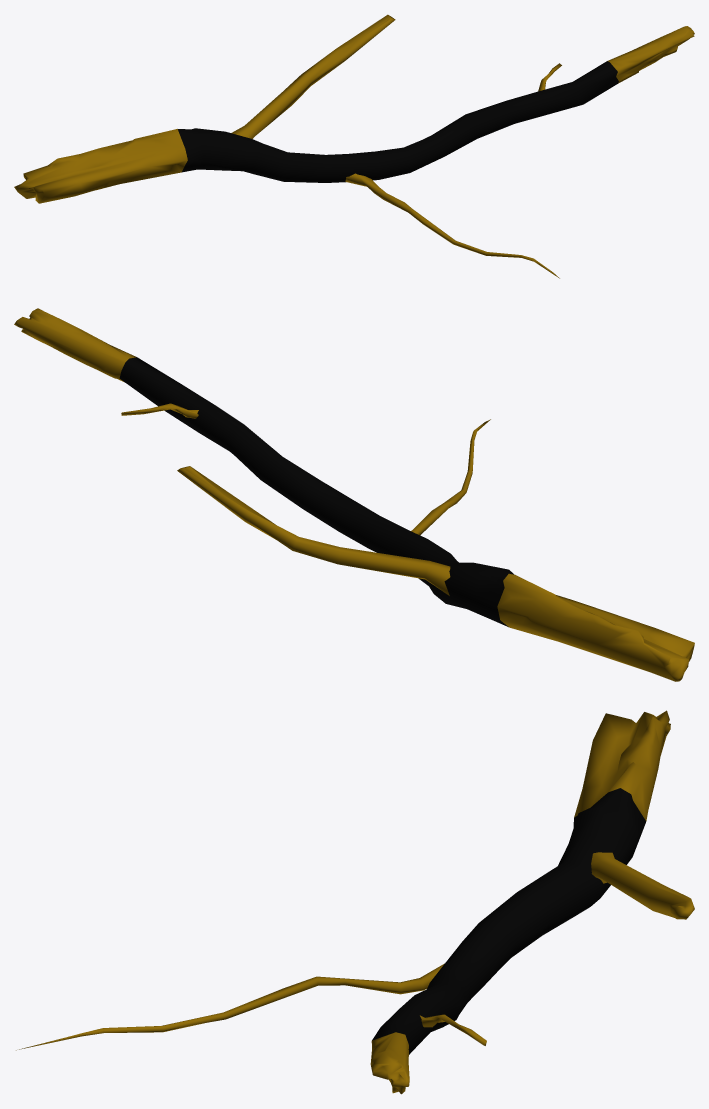
The model's file is beech_dry_bough_branch_01.fbx.
3 renders of one model, top to bottom at view 1: azimuth 30°, elevation 25°; view 2: azimuth 150°, elevation 25°; view 3: azimuth 270°, elevation 25°, orthographic. The views are drawn at different scales.
Parts seen in each view (by area): view 1: beech_dry_bough_branch_01; view 2: beech_dry_bough_branch_01; view 3: beech_dry_bough_branch_01.
Part boxes in pixels (x1,y1,x2,y2): beech_dry_bough_branch_01: (14,14,694,278); beech_dry_bough_branch_01: (14,308,694,681); beech_dry_bough_branch_01: (16,710,694,1094).
Bounding box in the file's own units: 7.83 × 1.41 × 4.72.
